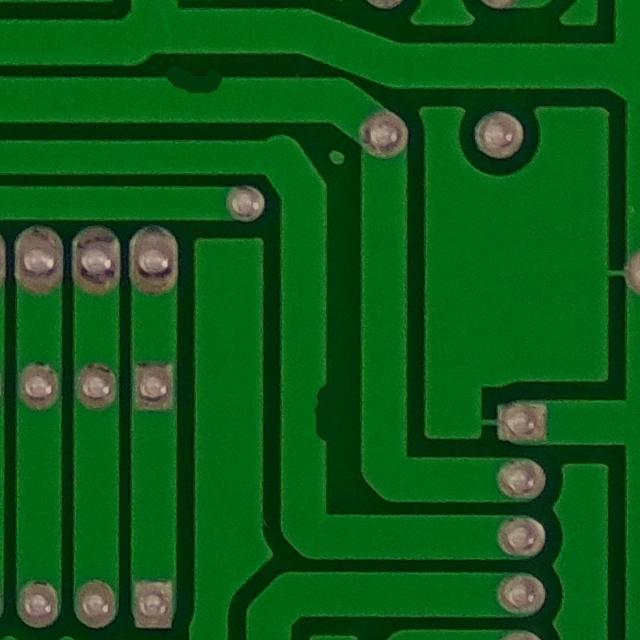mouse_bite: (275, 368, 359, 457), (153, 59, 235, 110)
